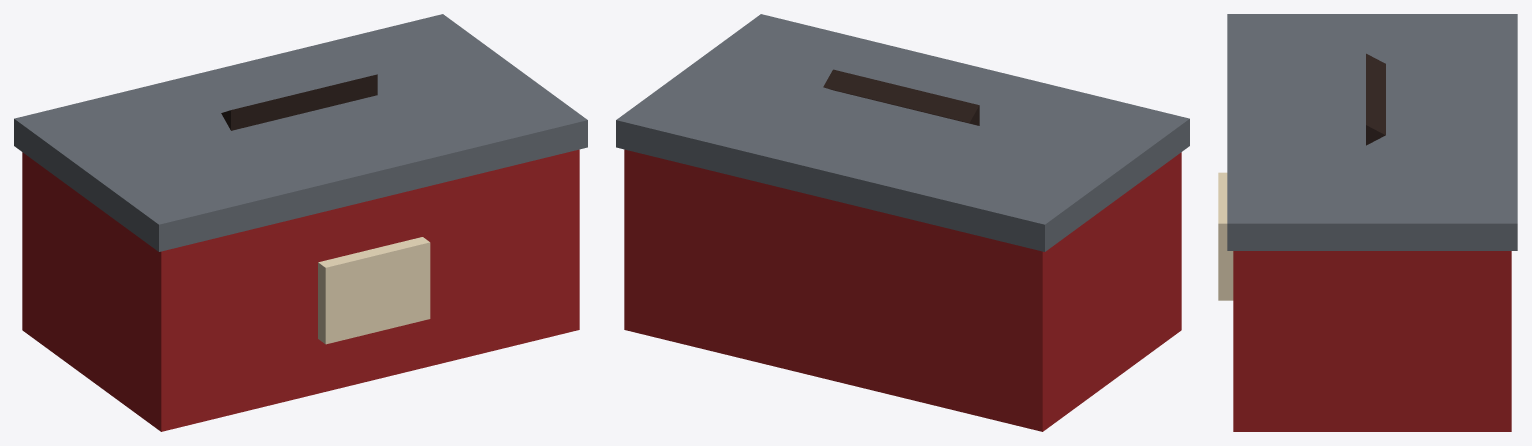
File: SM_Prop_RepairKit_LQ.glb
3 views of the same model, side by side, from view 1: azimuth 30°, elevation 25°; view 2: azimuth 150°, elevation 25°; view 3: azimuth 270°, elevation 25° (orthographic).
Parts seen in each view (by area): view 1: SM_Prop_RepairKit_LQ; view 2: SM_Prop_RepairKit_LQ; view 3: SM_Prop_RepairKit_LQ.
Part boxes in pixels (x1=…): SM_Prop_RepairKit_LQ: x1=14, y1=14, x2=587, y2=431; SM_Prop_RepairKit_LQ: x1=616, y1=14, x2=1189, y2=431; SM_Prop_RepairKit_LQ: x1=1218, y1=14, x2=1517, y2=431.
Size of the model in its own units: 0.82 by 0.4391 by 0.495.
1 material, 1 textured.
